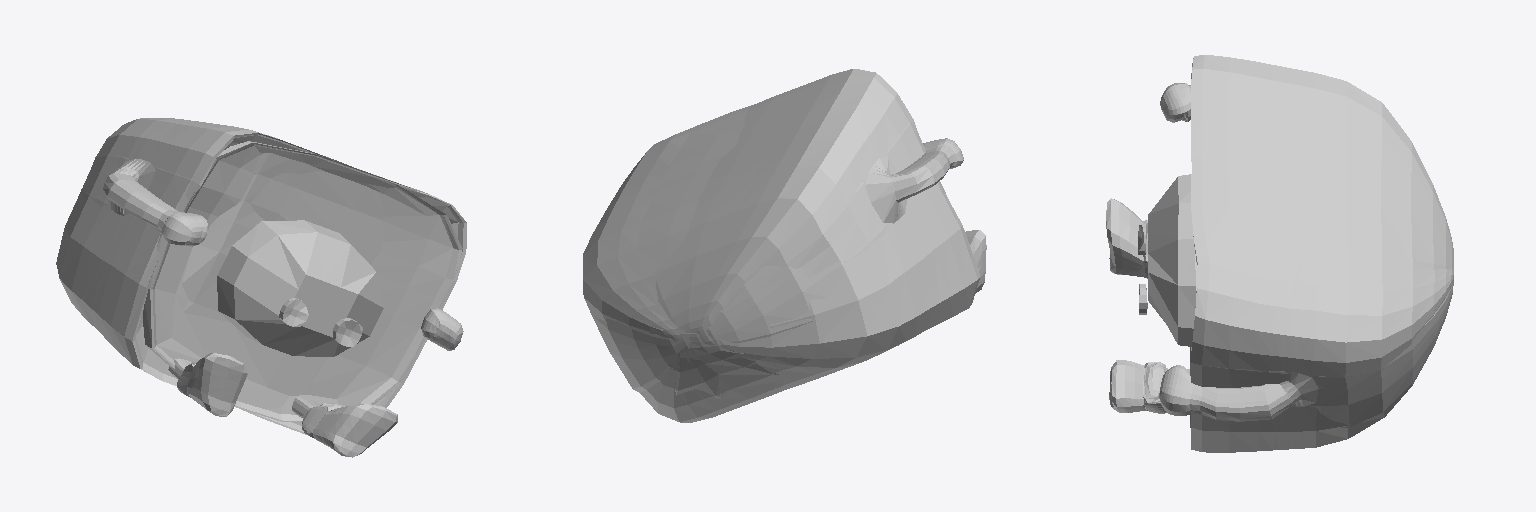
File: Pal_000015.obj
3 renders of one model, left to right at view 1: azimuth 30°, elevation 25°; view 2: azimuth 150°, elevation 25°; view 3: azimuth 270°, elevation 25°, orthographic.
Parts seen in each view (by area): view 1: Cuerpo_de_aguacate_3.001_Cube.002, Hueso_Cubo.003, Ojos_Cubo.002; view 2: Cuerpo_de_aguacate_3.001_Cube.002; view 3: Cuerpo_de_aguacate_3.001_Cube.002, Hueso_Cubo.003.
Part boxes in pixels (left/top/right/bottom): Cuerpo_de_aguacate_3.001_Cube.002: left=56, top=118, right=466, bottom=457; Hueso_Cubo.003: left=217, top=220, right=383, bottom=356; Ojos_Cubo.002: left=279, top=298, right=362, bottom=346; Cuerpo_de_aguacate_3.001_Cube.002: left=583, top=69, right=986, bottom=422; Cuerpo_de_aguacate_3.001_Cube.002: left=1106, top=55, right=1453, bottom=452; Hueso_Cubo.003: left=1148, top=174, right=1195, bottom=346.
Bounding box in the file's own units: 1.14 × 1.07 × 1.01.